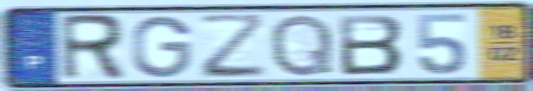5: (415, 10, 470, 77)
B: (335, 12, 406, 77)
G: (129, 13, 194, 79)
Q: (267, 12, 337, 80)
R: (56, 12, 128, 83)
Z: (194, 11, 270, 81)
